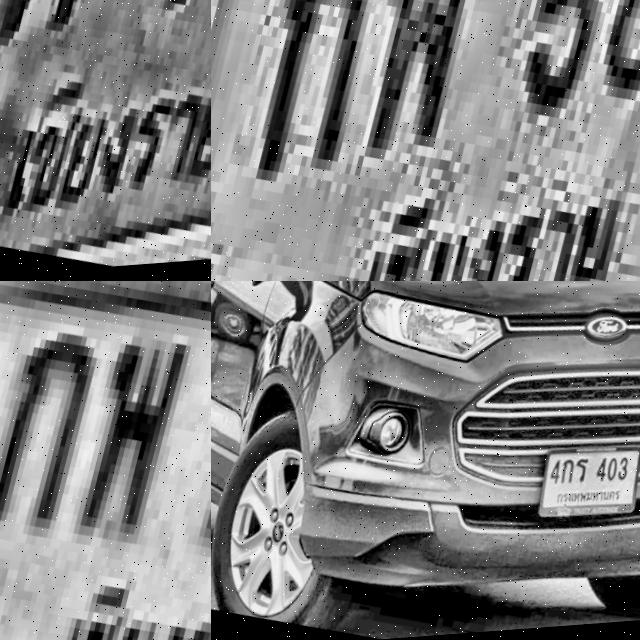license-plate: (211, 0, 640, 281), (0, 281, 211, 640), (0, 0, 211, 281), (525, 426, 640, 553)
